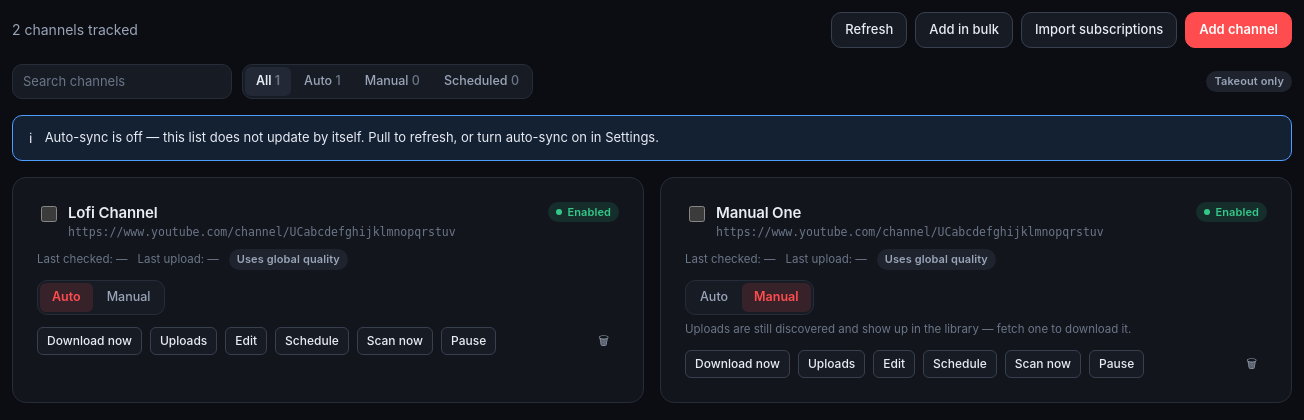
Scenario: channel search hits the server › passes ?search= through and renders the filtered result
Expected: the heading "Lofi Channel" is shown, [68,203,158,222]
Type "lofi" into the field labelled "Search channels" at (122, 81), box [12,64,232,99]
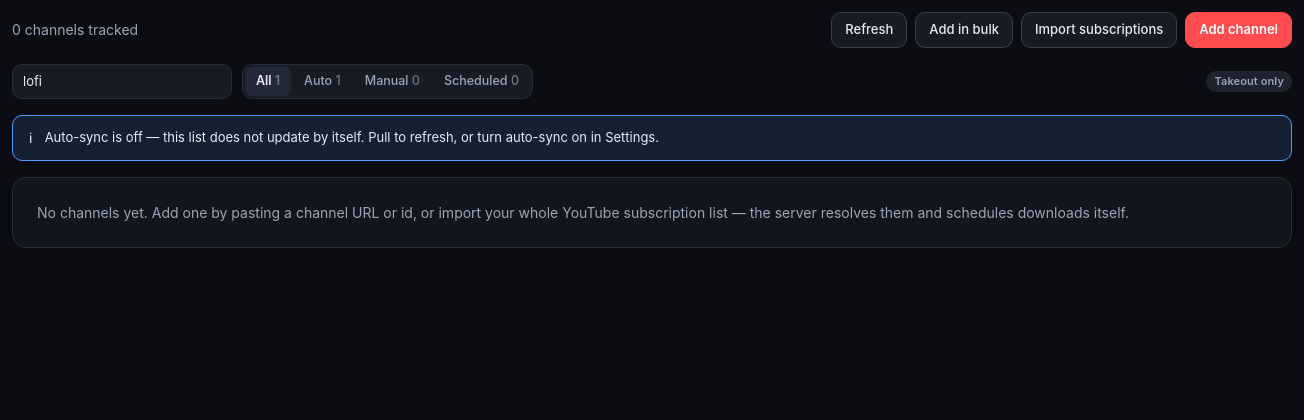
Expected: the heading "Lofi Channel" is gone
